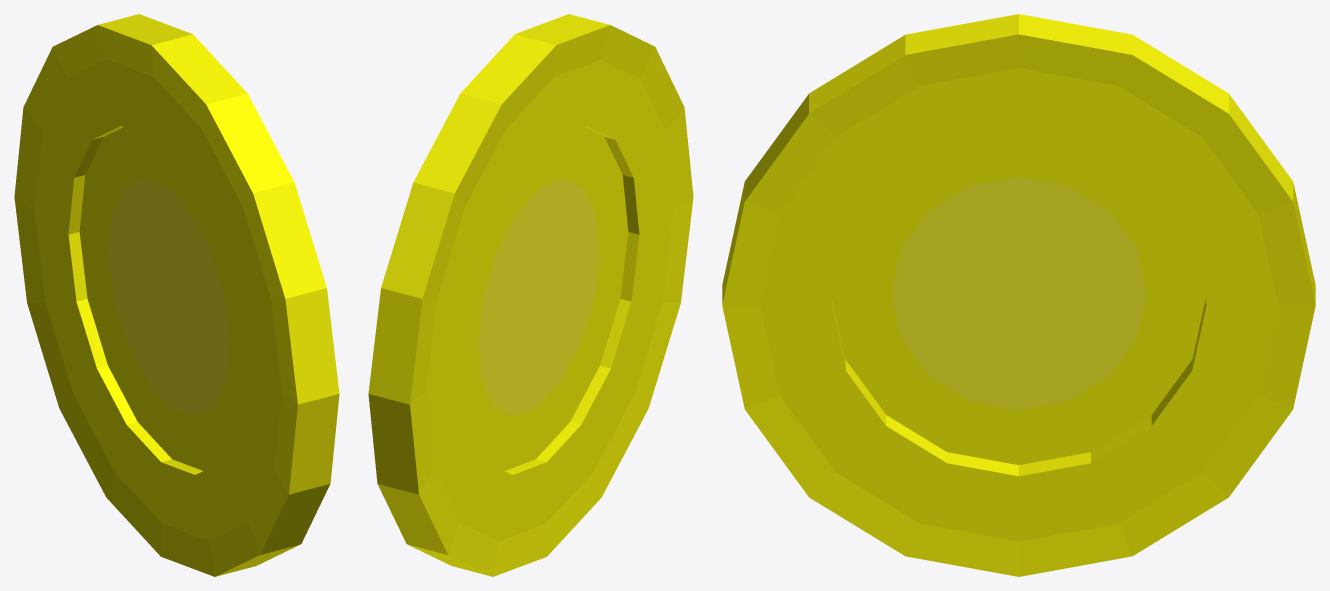
Rendered from coin.fbx.
The picture shows the model from 3 angles, left to right: view 1: azimuth 30°, elevation 25°; view 2: azimuth 150°, elevation 25°; view 3: azimuth 270°, elevation 25°; orthographic projection. The views are drawn at different scales.
Visible parts, largest first — view 1: Cylinder; view 2: Cylinder; view 3: Cylinder.
Boxes of the visible parts, bbox=[...] form: Cylinder: bbox=[14, 14, 339, 576]; Cylinder: bbox=[368, 14, 693, 576]; Cylinder: bbox=[722, 14, 1315, 576].
Bounding box in the file's own units: 20.76 × 200 × 200.
